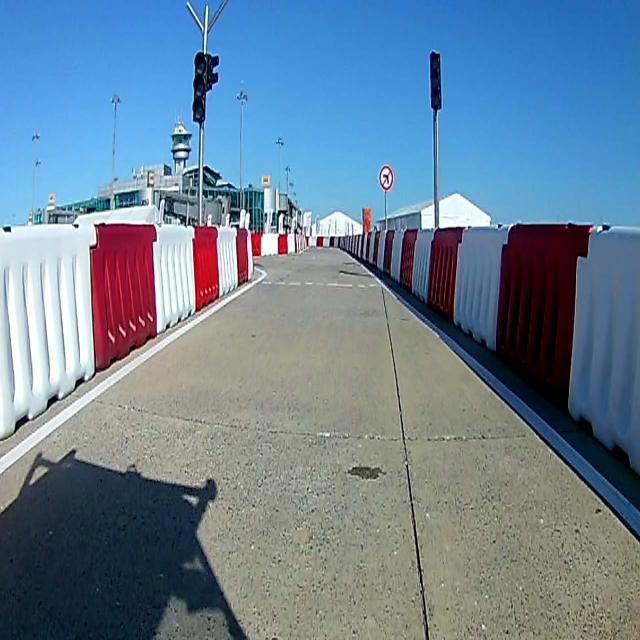soladonulmez: (379, 166, 394, 190)
